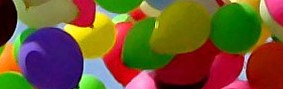Balloon: (18, 27, 84, 89), (150, 1, 211, 53), (210, 3, 262, 53)
